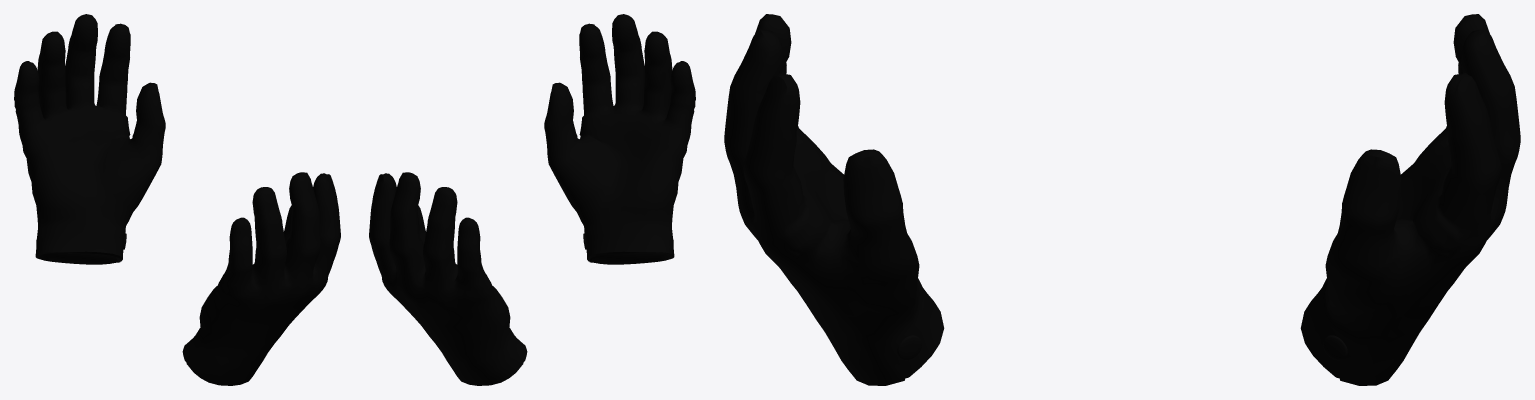
Rendered from slick.glb.
3 views of the same model, side by side, from view 1: azimuth 30°, elevation 25°; view 2: azimuth 150°, elevation 25°; view 3: azimuth 270°, elevation 25° (orthographic). The views are drawn at different scales.
Visible parts, largest first — view 1: characters/models/shared/arms/glove_slick/w_glove_slick.vmdl; view 2: characters/models/shared/arms/glove_slick/w_glove_slick.vmdl; view 3: characters/models/shared/arms/glove_slick/w_glove_slick.vmdl.
Boxes of the visible parts, x1=… form: characters/models/shared/arms/glove_slick/w_glove_slick.vmdl: x1=14, y1=14, x2=340, y2=385; characters/models/shared/arms/glove_slick/w_glove_slick.vmdl: x1=369, y1=14, x2=695, y2=385; characters/models/shared/arms/glove_slick/w_glove_slick.vmdl: x1=724, y1=14, x2=1520, y2=385.
Size of the model in its own units: 5.63 by 9.46 by 18.47.
2 materials, 2 textured.
